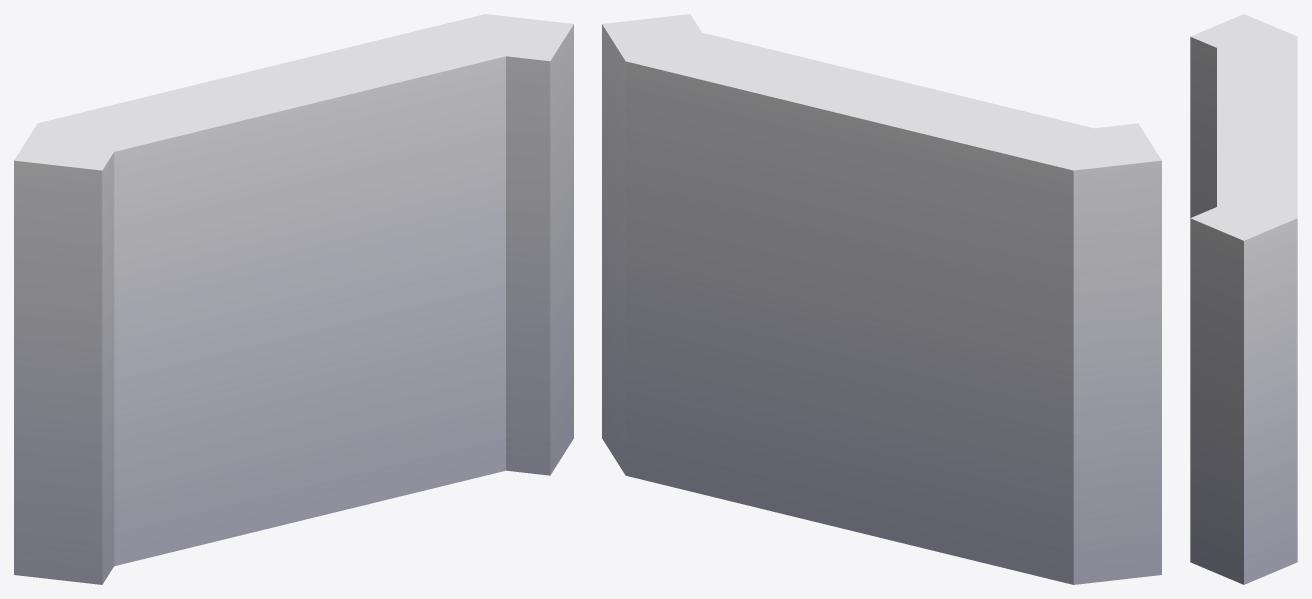
Rendered from wall_diagonal__1_1_lev5.glb.
3 views of the same model, side by side, from view 1: azimuth 30°, elevation 25°; view 2: azimuth 150°, elevation 25°; view 3: azimuth 270°, elevation 25° (orthographic). The views are drawn at different scales.
Visible parts, largest first — view 1: wall_diagonal__1_1_lev5; view 2: wall_diagonal__1_1_lev5; view 3: wall_diagonal__1_1_lev5.
Part boxes in pixels (x1,y1,x2,y2): wall_diagonal__1_1_lev5: (14, 14, 573, 584); wall_diagonal__1_1_lev5: (602, 14, 1161, 584); wall_diagonal__1_1_lev5: (1190, 14, 1297, 584).
Bounding box in the file's own units: 1.41 × 1 × 0.2828.
Materials: 1 (1 with a texture image).
